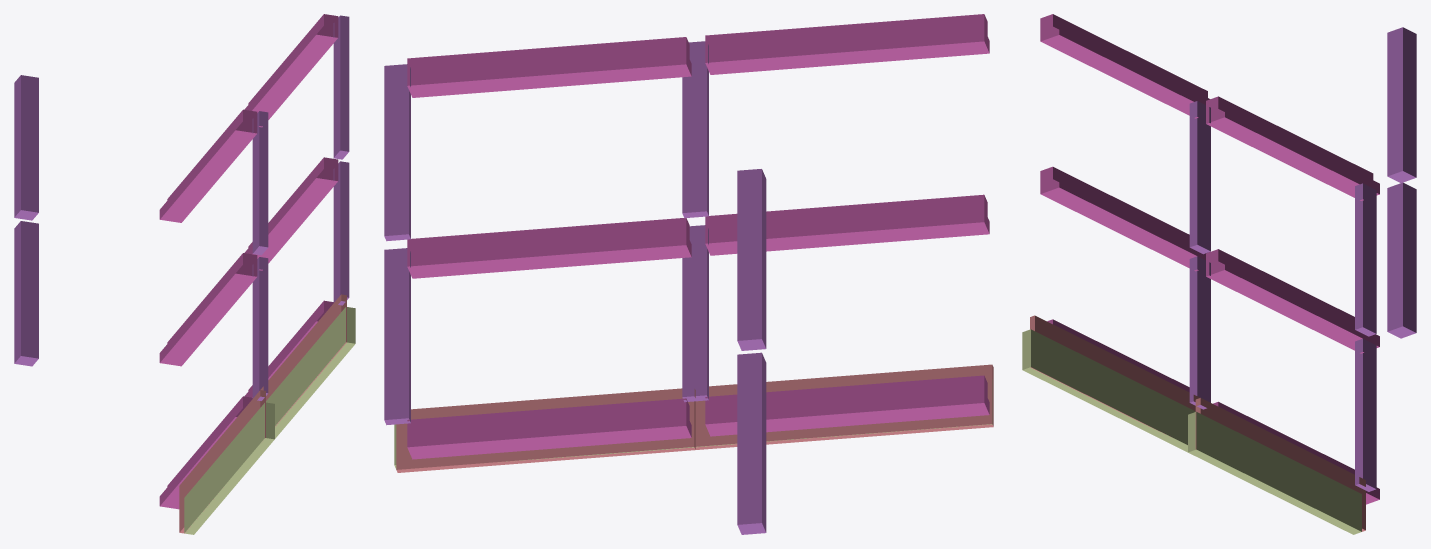
3 views of the same model, side by side, from view 1: azimuth 30°, elevation 25°; view 2: azimuth 150°, elevation 25°; view 3: azimuth 270°, elevation 25° (orthographic). The views are drawn at different scales.
Bounding box in the file's own units: 9.65 × 9.05 × 9.25.
